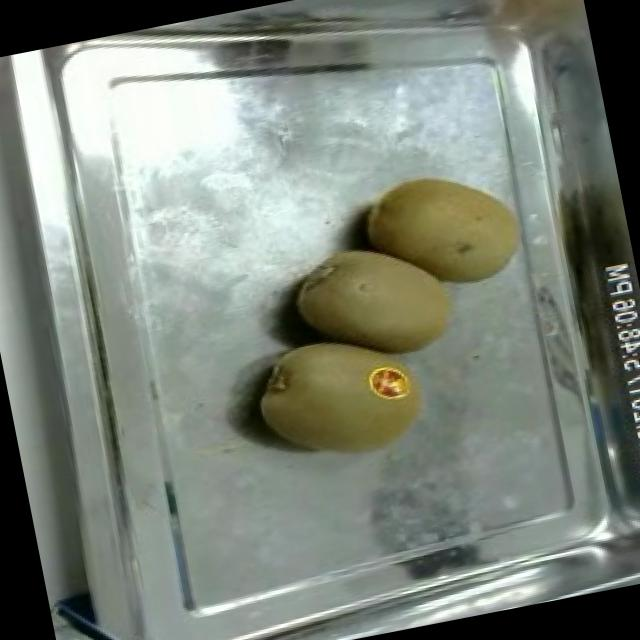Fruit: (242, 312, 439, 477), (278, 220, 474, 380), (346, 146, 536, 310)
